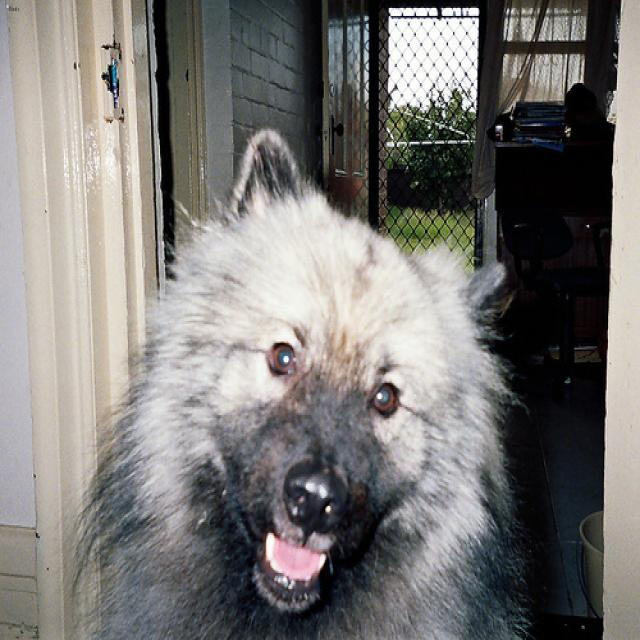dog-keeshond: (56, 120, 544, 637)
